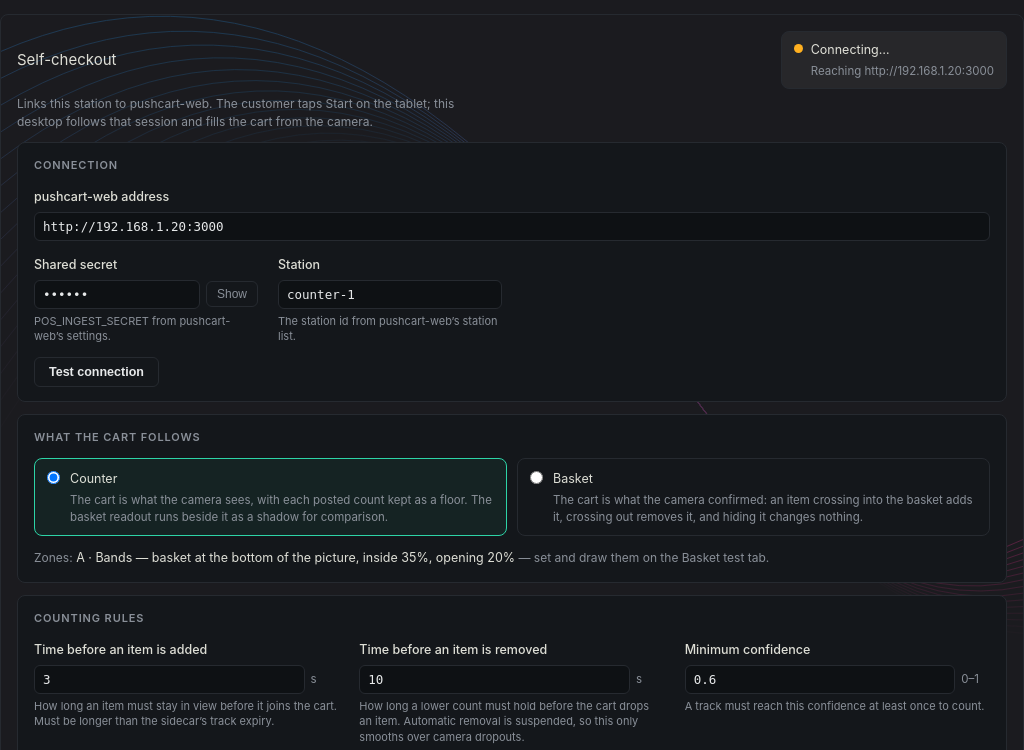
Scenario: PosAdminSection › warns inline when the dwell is not longer than the sidecar's track expiry
The image size is (1024, 750).
Expected: the field with test id "pos-base-url" holds "http://192.168.1.20:3000", [34,212,990,241]
Click the button "Test connection": (96, 372) [34,356,159,386]
(page scrolled)
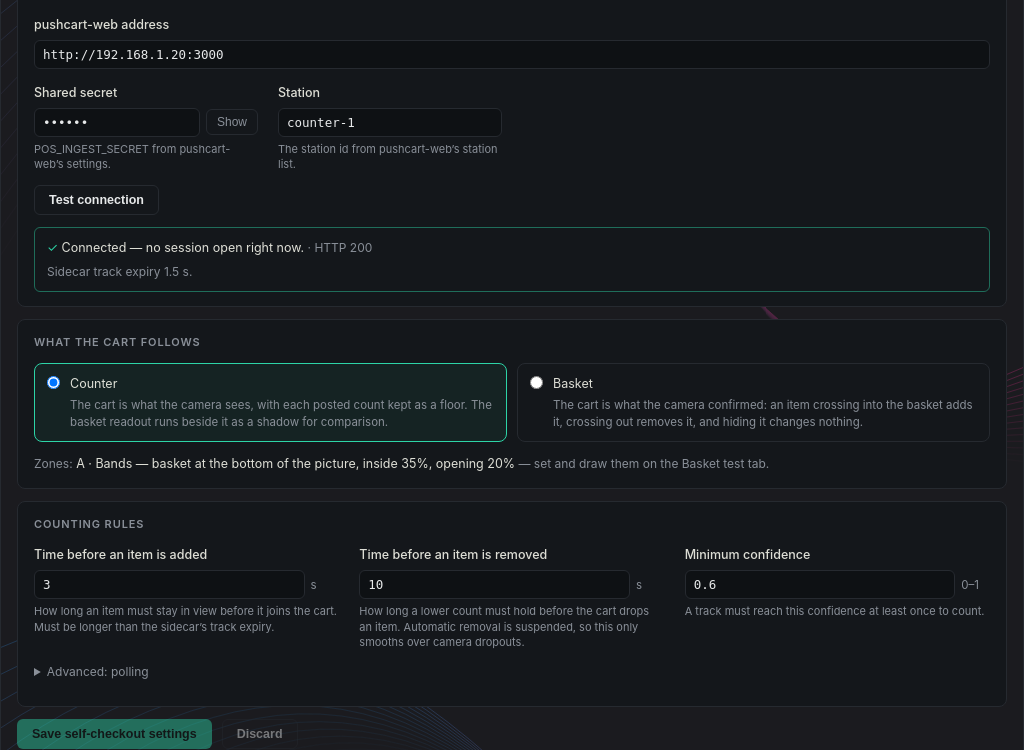
Now the message with test id "pos-test-result" is shown, box [34,226,990,292]
Replace the text in the number field with test id "pos-commitDwellS" with "1.5": (169, 585) [34,570,305,599]
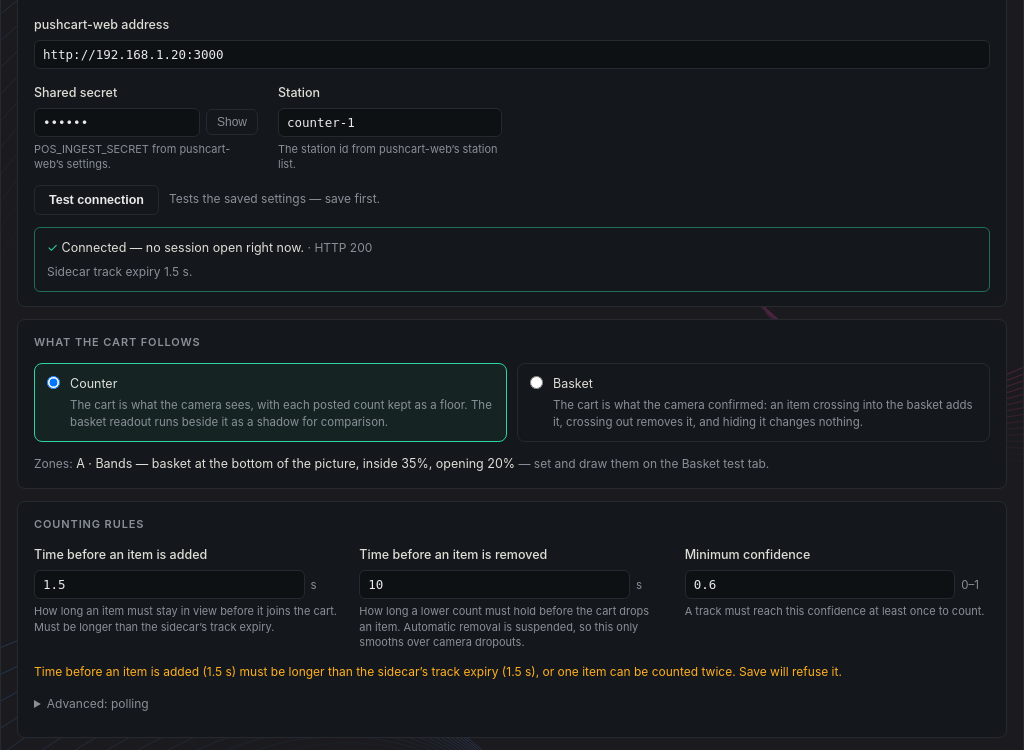
Now the text with test id "pos-dwell-warning" shows "1.5 s", box [34,664,842,679]
